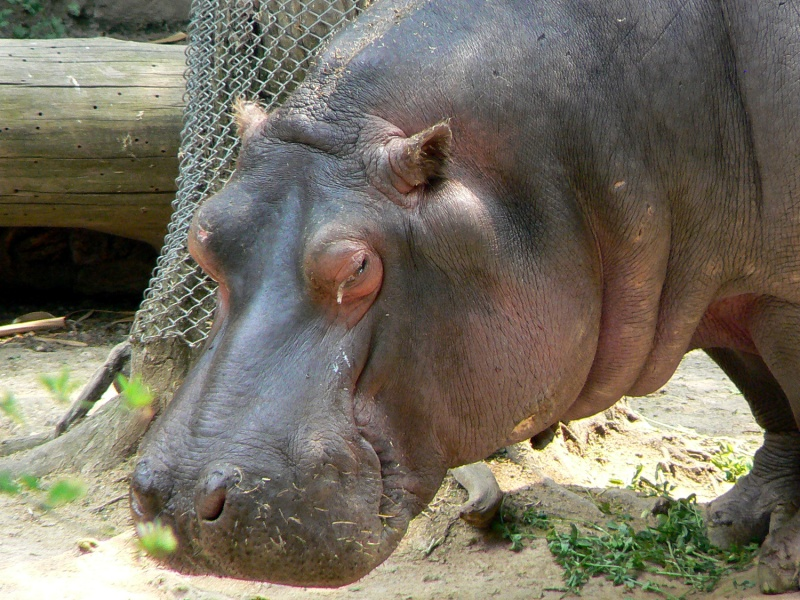hipopotamo: (134, 0, 798, 574)
